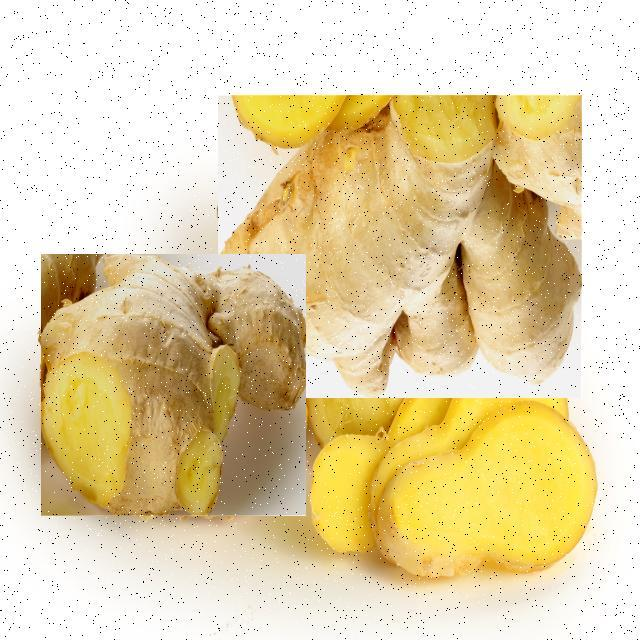ginger: (217, 95, 580, 397), (40, 253, 305, 514)
